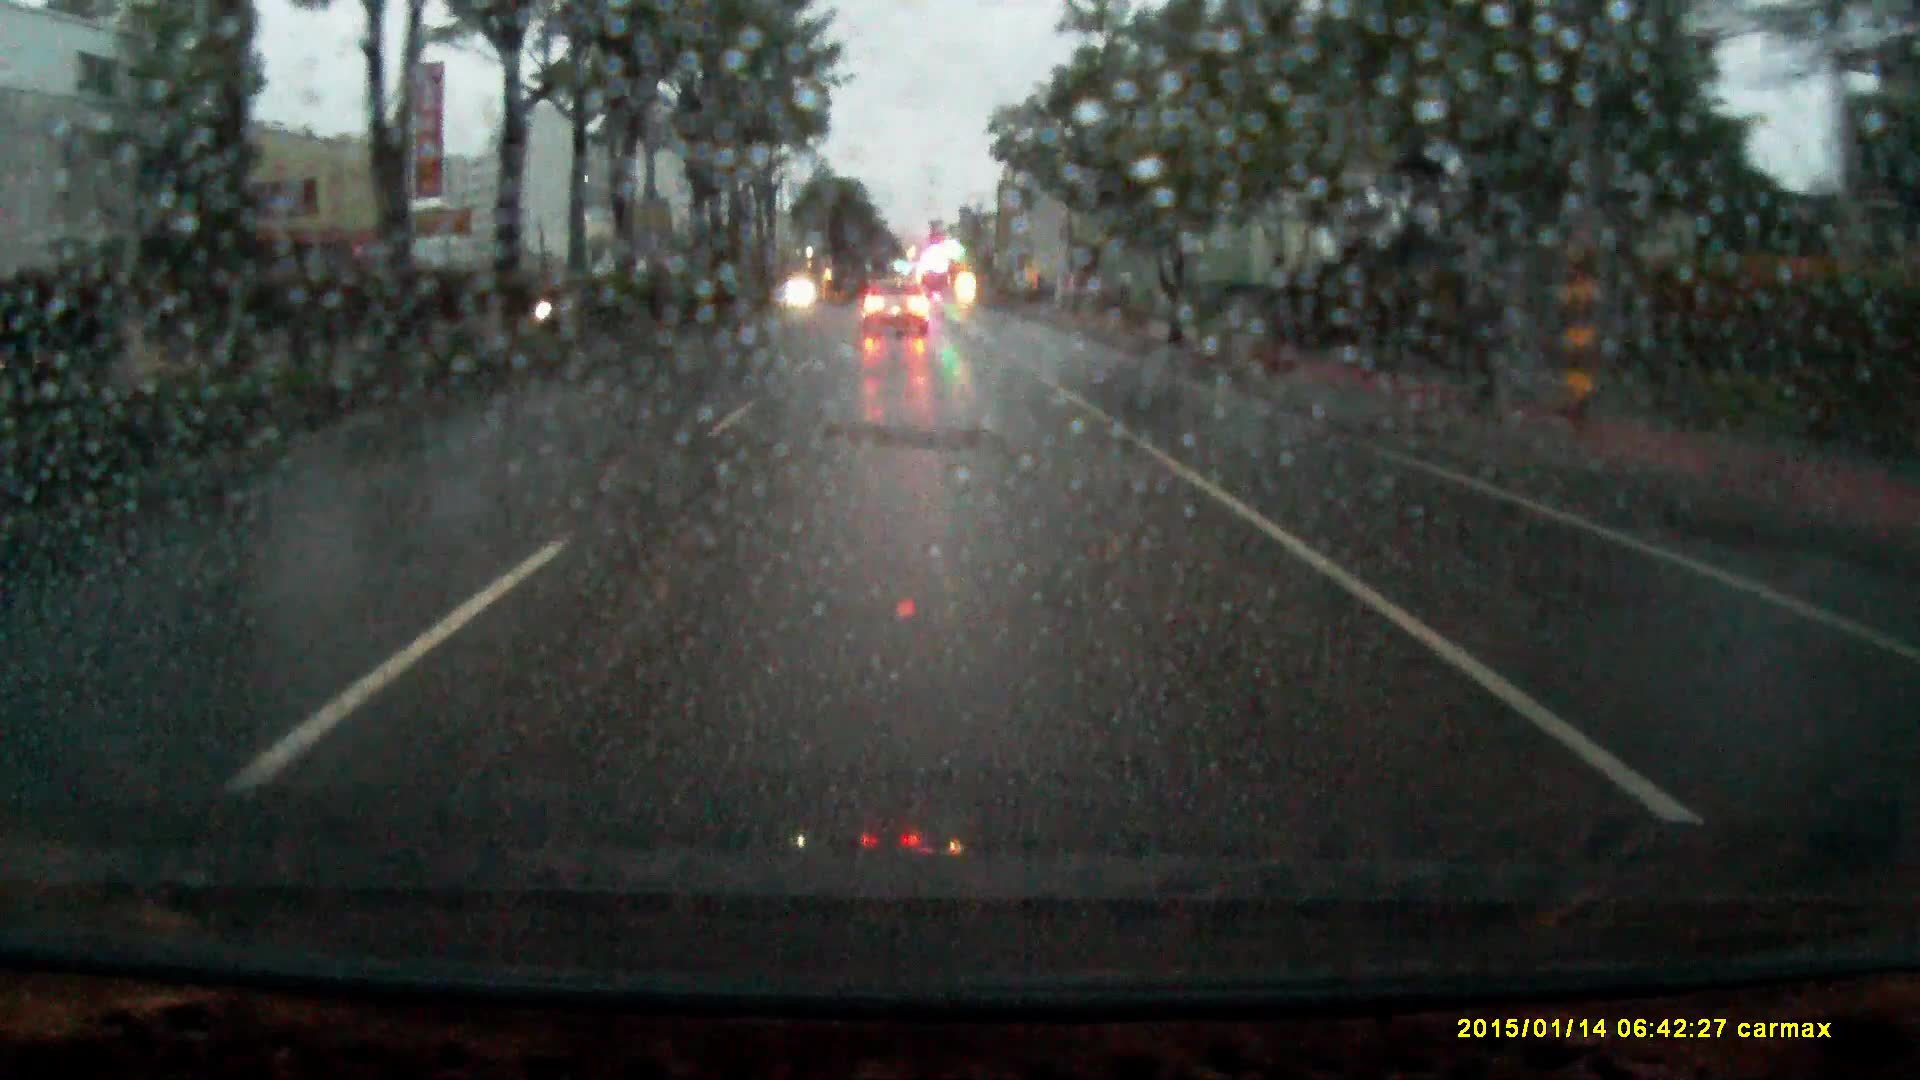vehicle: (862, 285, 931, 343)
